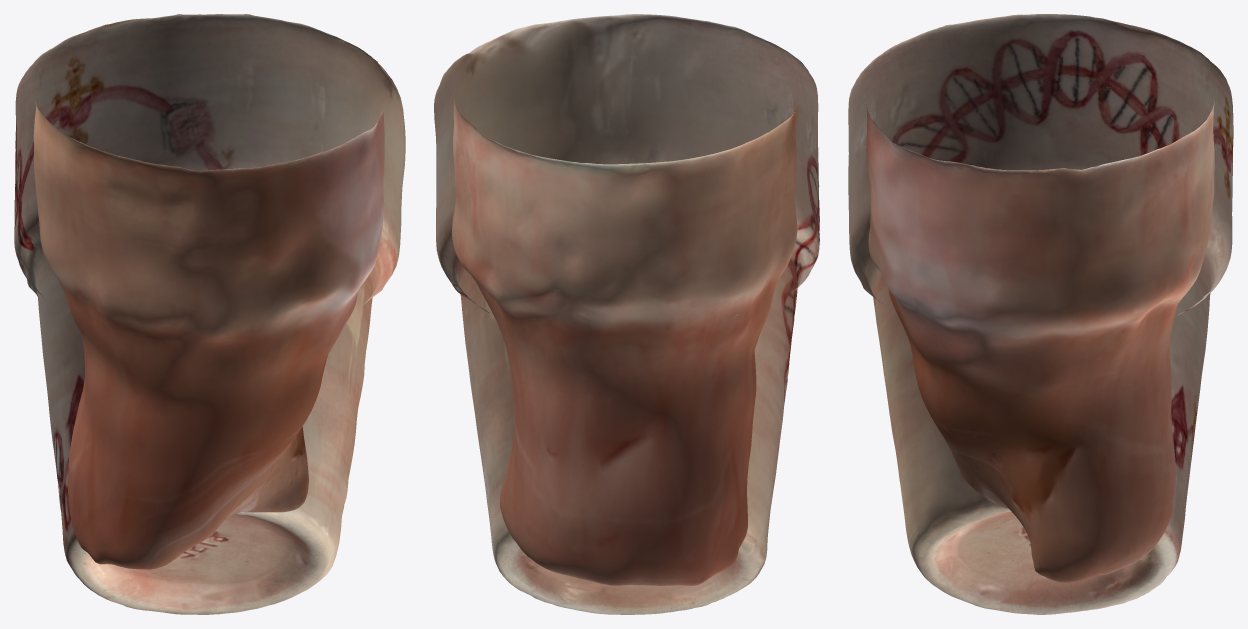
The picture shows the model from 3 angles, left to right: view 1: azimuth 30°, elevation 25°; view 2: azimuth 150°, elevation 25°; view 3: azimuth 270°, elevation 25°; orthographic projection.
Size of the model in its own units: 0.0718 by 0.0974 by 0.0717.
1 material, 1 textured.
